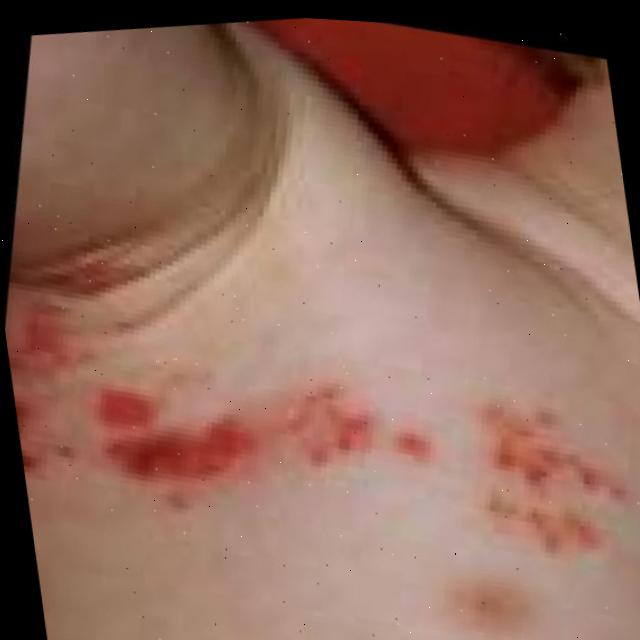Shingles: (3, 229, 624, 634)
